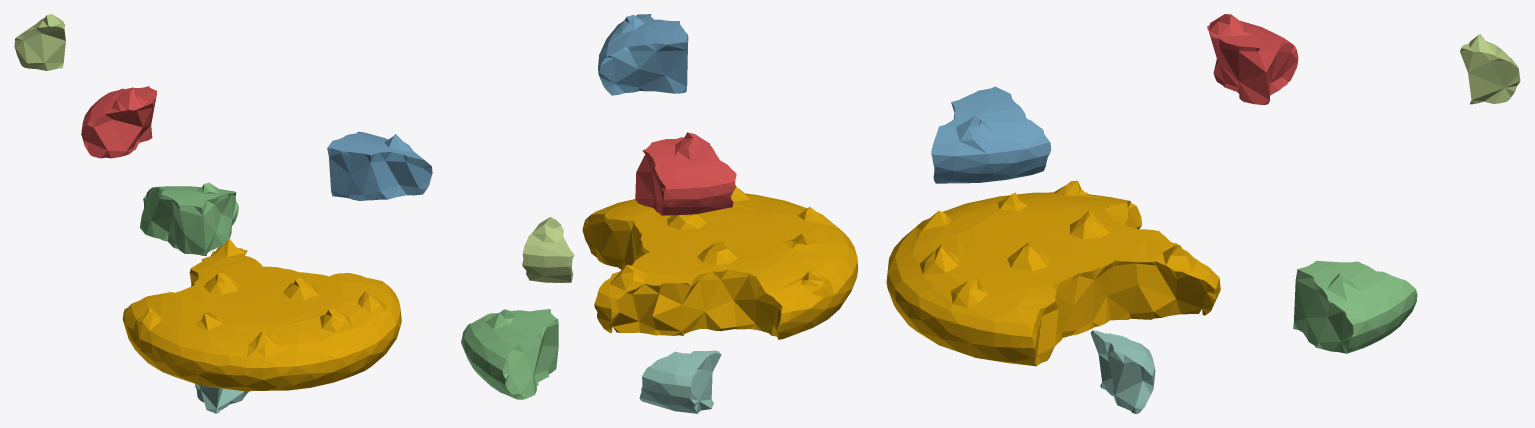
File: fractured_56_6pcs_transformed.glb
The picture shows the model from 3 angles, left to right: view 1: azimuth 30°, elevation 25°; view 2: azimuth 150°, elevation 25°; view 3: azimuth 270°, elevation 25°; orthographic projection. The views are drawn at different scales.
Parts seen in each view (by area): view 1: piece_0.obj, piece_2.obj, piece_3.obj, piece_1.obj, piece_5.obj, piece_4.obj; view 2: piece_0.obj, piece_3.obj, piece_1.obj, piece_2.obj, piece_4.obj, piece_5.obj; view 3: piece_0.obj, piece_3.obj, piece_2.obj, piece_1.obj, piece_4.obj, piece_5.obj.
Boxes of the visible parts, x1=… form: piece_0.obj: x1=122, y1=239, x2=401, y2=391; piece_2.obj: x1=327, y1=131, x2=432, y2=200; piece_3.obj: x1=140, y1=182, x2=238, y2=255; piece_1.obj: x1=81, y1=86, x2=156, y2=158; piece_5.obj: x1=14, y1=14, x2=65, y2=70; piece_4.obj: x1=195, y1=384, x2=250, y2=413; piece_0.obj: x1=582, y1=184, x2=857, y2=339; piece_3.obj: x1=461, y1=309, x2=558, y2=399; piece_1.obj: x1=635, y1=132, x2=736, y2=215; piece_2.obj: x1=598, y1=14, x2=688, y2=95; piece_4.obj: x1=639, y1=350, x2=721, y2=413; piece_5.obj: x1=522, y1=217, x2=574, y2=282; piece_0.obj: x1=886, y1=180, x2=1220, y2=366; piece_3.obj: x1=1293, y1=260, x2=1417, y2=353; piece_2.obj: x1=931, y1=86, x2=1051, y2=183; piece_1.obj: x1=1207, y1=14, x2=1298, y2=104; piece_4.obj: x1=1090, y1=330, x2=1155, y2=413; piece_5.obj: x1=1460, y1=34, x2=1520, y2=104.
Bounding box in the file's own units: 0.9983 × 1.16 × 1.89.
